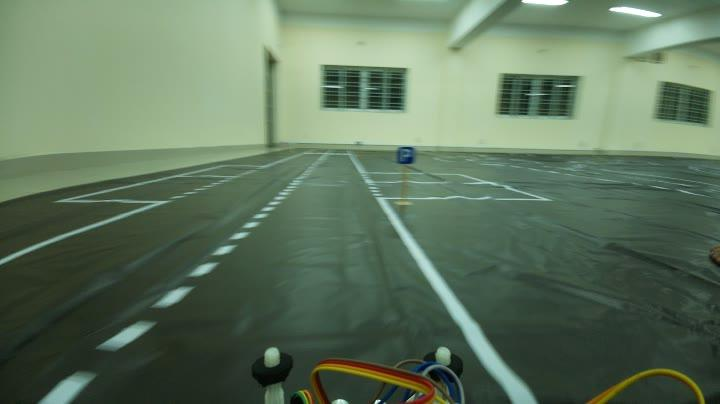parking: (392, 145, 419, 166)
